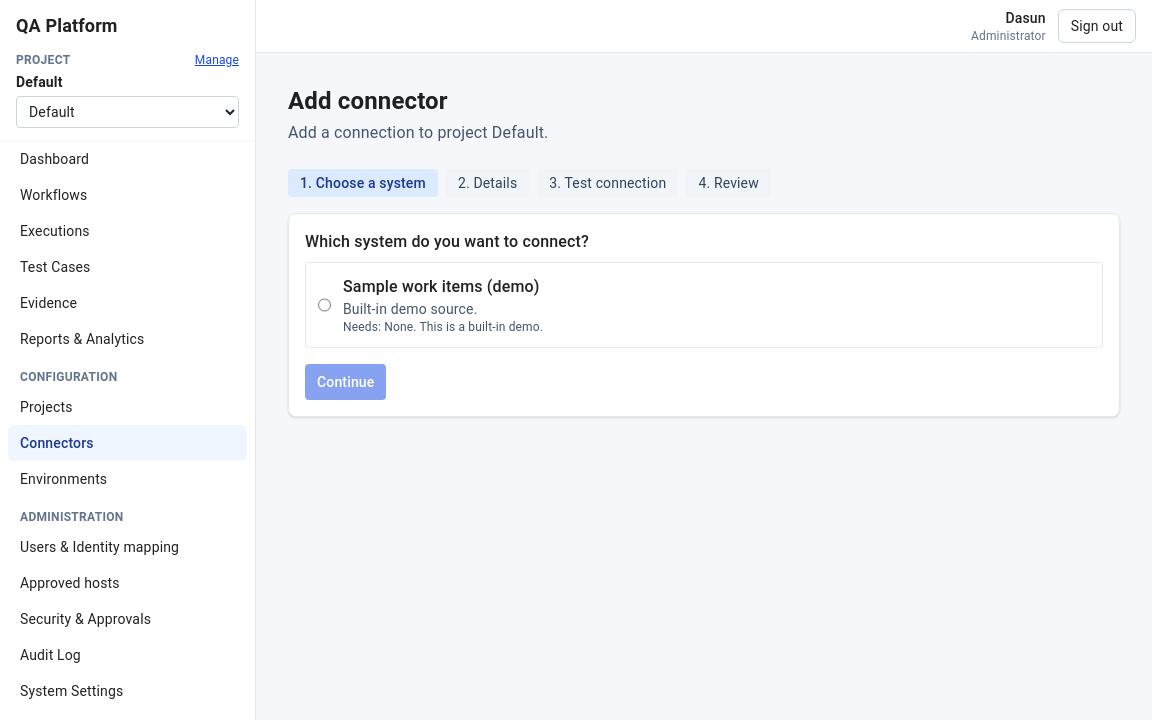
Test: add connector wizard › is driven by the provider descriptor: choose, details, save, then test
Click the radio button labelled "Sample work items": click(324, 305) [318, 275, 331, 335]
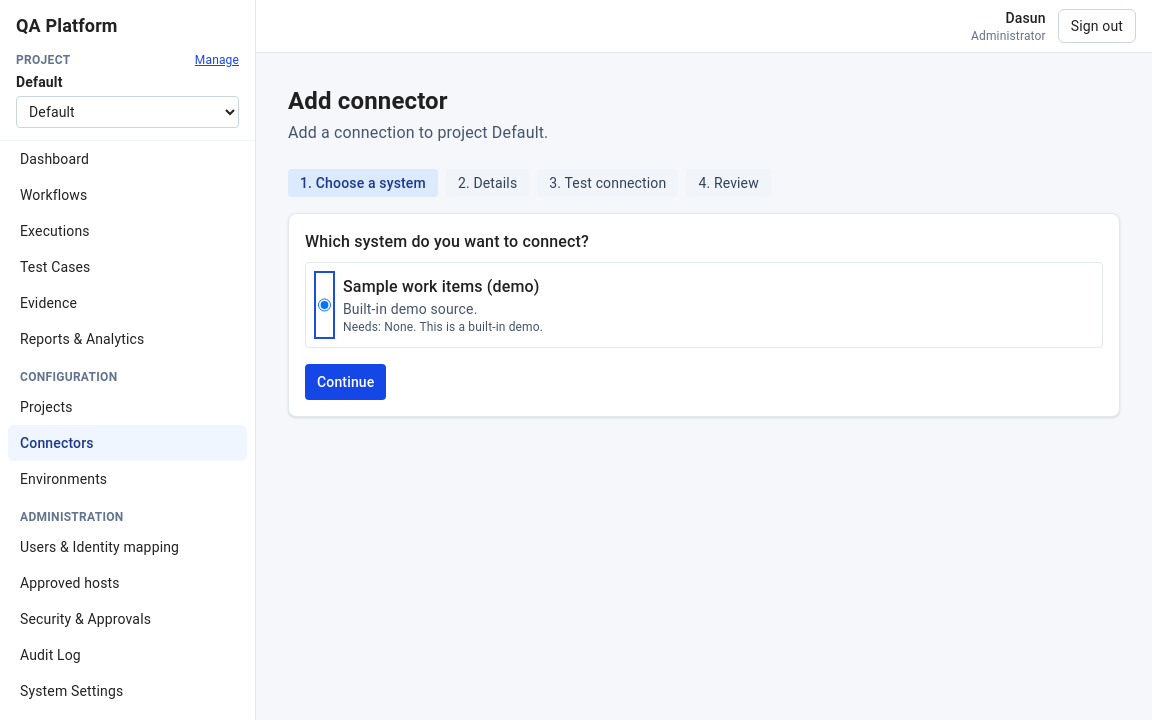
Click the button "Continue": click(346, 382) [305, 364, 386, 400]
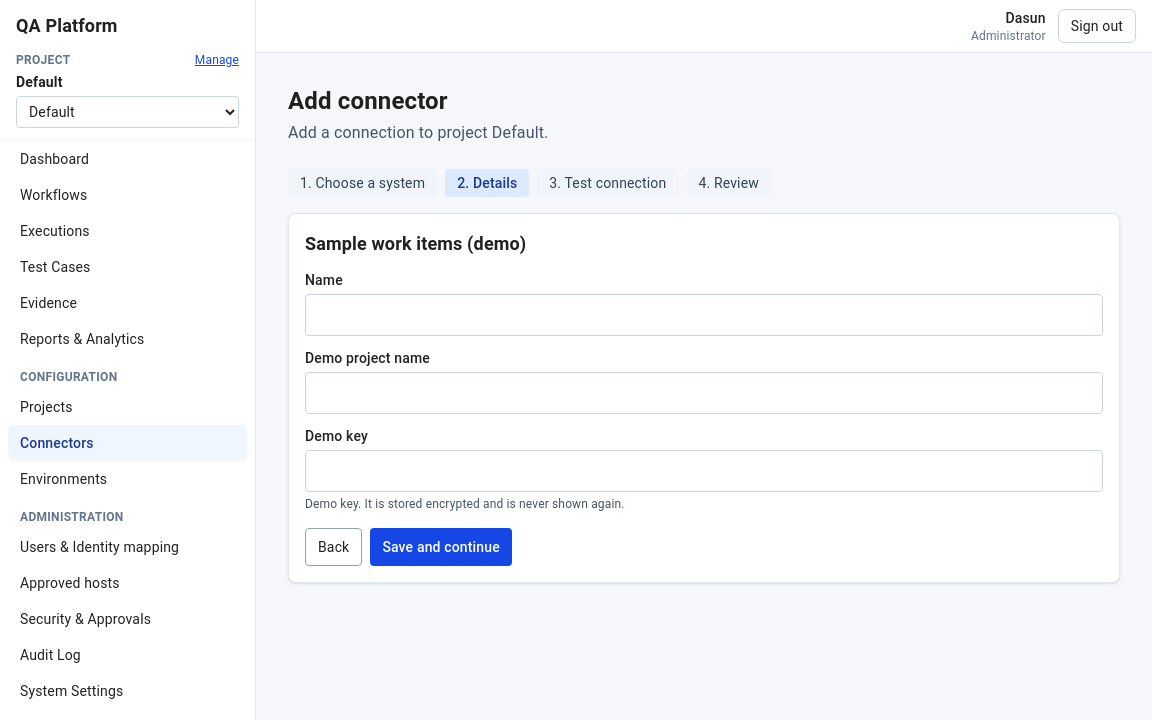
In the field labelled "Name": (704, 315) [305, 294, 1103, 336], type "Demo source"
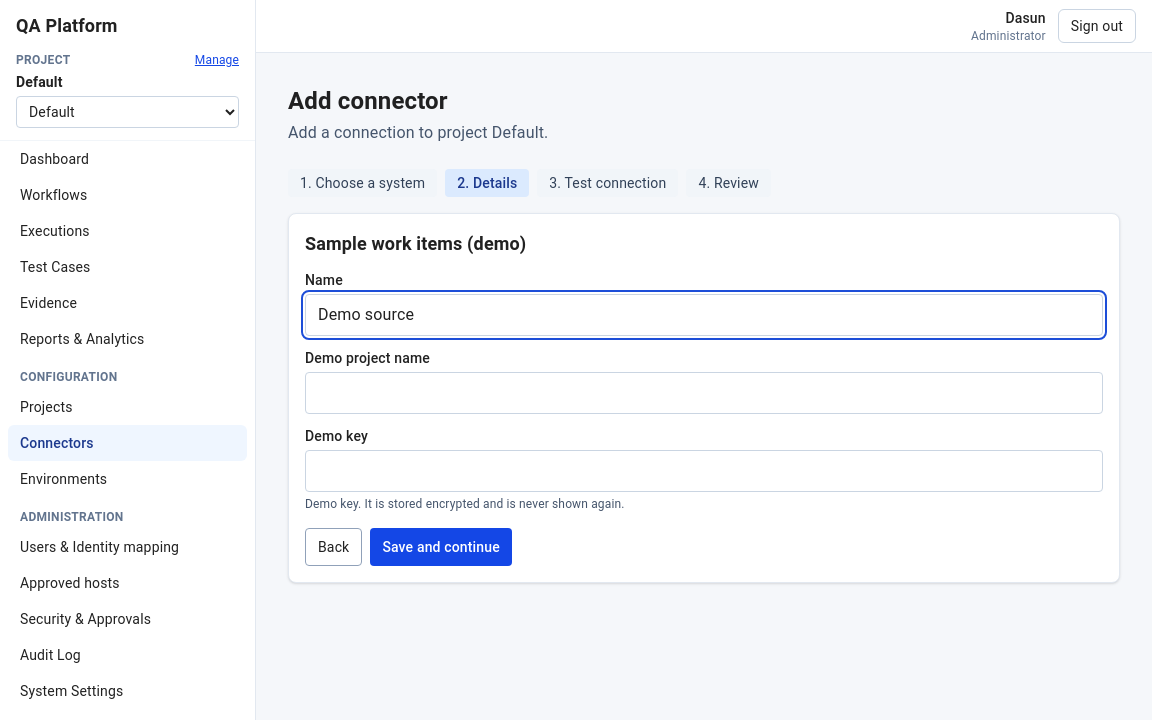
In the field labelled "Demo project name": (704, 393) [305, 372, 1103, 414], type "Retail Web"
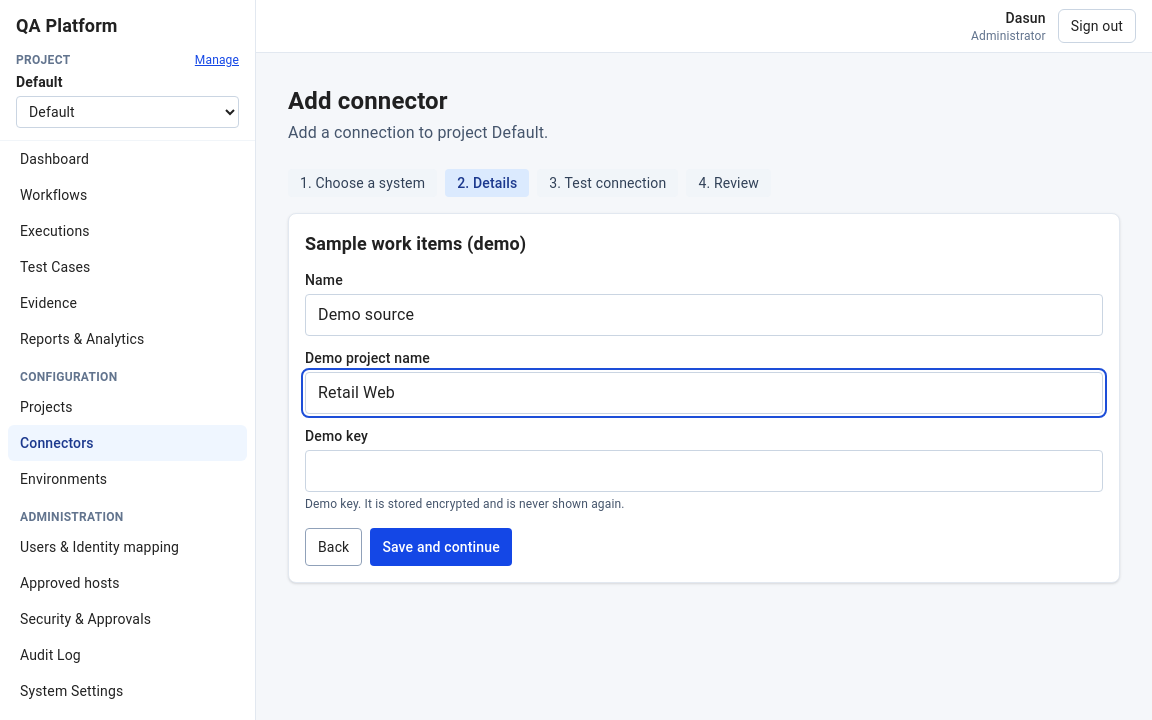
In the password field labelled "Demo key": (704, 471) [305, 450, 1103, 492], type "demo-secret-value"
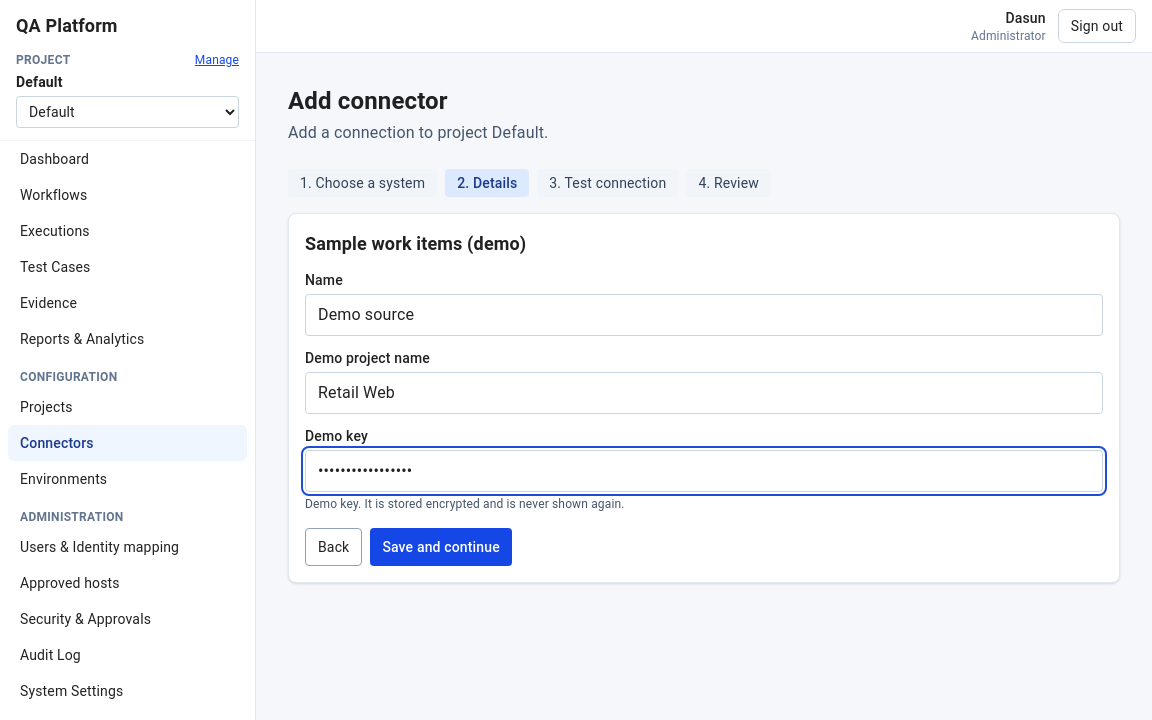
Click the button "Save and continue": click(441, 547) [370, 528, 512, 566]
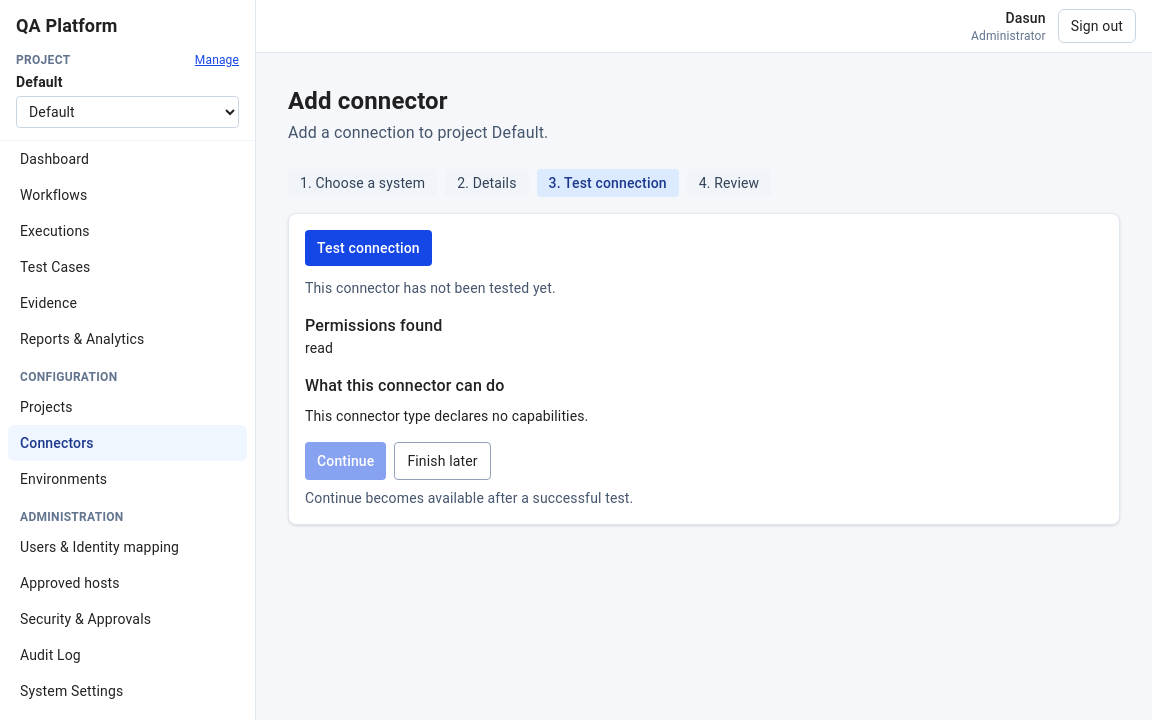
Now the button "Test connection" is shown, box [305, 230, 432, 266]
Now the button "Continue" is disabled, box [305, 442, 386, 480]
